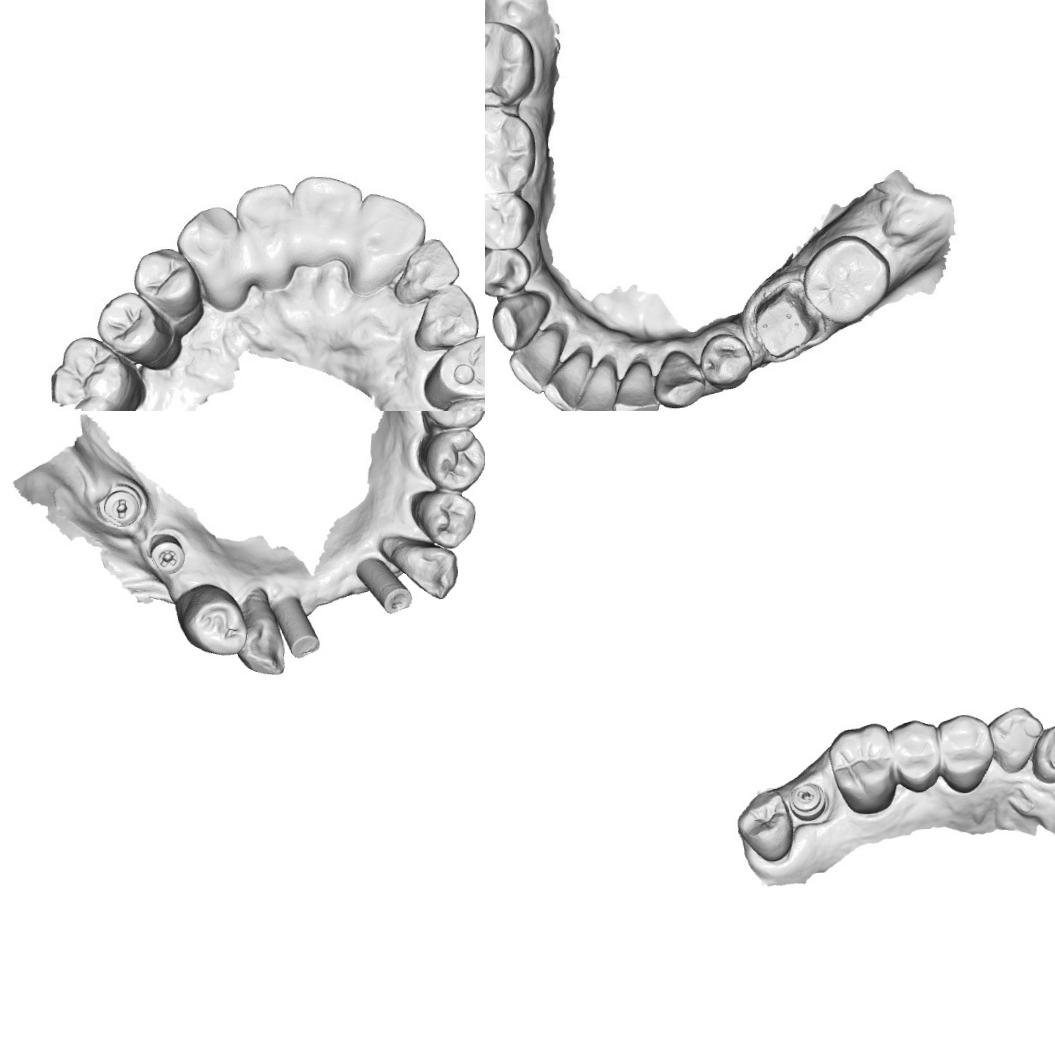canine: (180, 207, 248, 315), (410, 277, 484, 352), (389, 534, 458, 602), (485, 291, 556, 353), (986, 704, 1047, 776), (234, 610, 288, 678), (654, 346, 709, 411)
crown: (752, 286, 813, 364)
implant: (350, 554, 412, 616), (272, 592, 322, 660)
implant_minus: (98, 480, 148, 532), (786, 779, 832, 825)
implant_plus: (144, 522, 186, 574)
incisor: (347, 194, 426, 290), (291, 177, 364, 277), (241, 182, 298, 293), (392, 240, 456, 311), (505, 328, 566, 398), (540, 345, 592, 411), (608, 353, 663, 411), (572, 357, 618, 411), (1029, 722, 1055, 785)
molar: (44, 334, 152, 411), (824, 720, 900, 818), (804, 238, 887, 318), (732, 784, 797, 866), (485, 110, 535, 197), (485, 23, 532, 106)
premolar: (94, 288, 182, 374), (130, 244, 208, 333), (934, 710, 996, 796), (178, 582, 244, 662), (419, 334, 485, 411), (417, 425, 485, 491), (889, 716, 942, 794), (410, 488, 476, 548), (694, 328, 752, 391), (485, 243, 534, 298), (485, 186, 529, 246)
